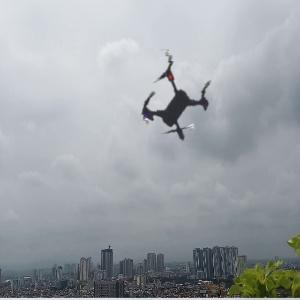drone: (100, 27, 260, 187)
